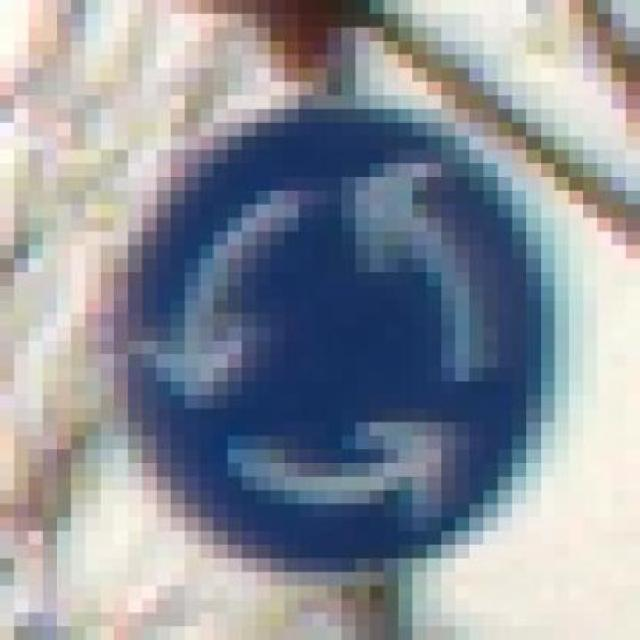Round-About: (56, 82, 598, 586)
